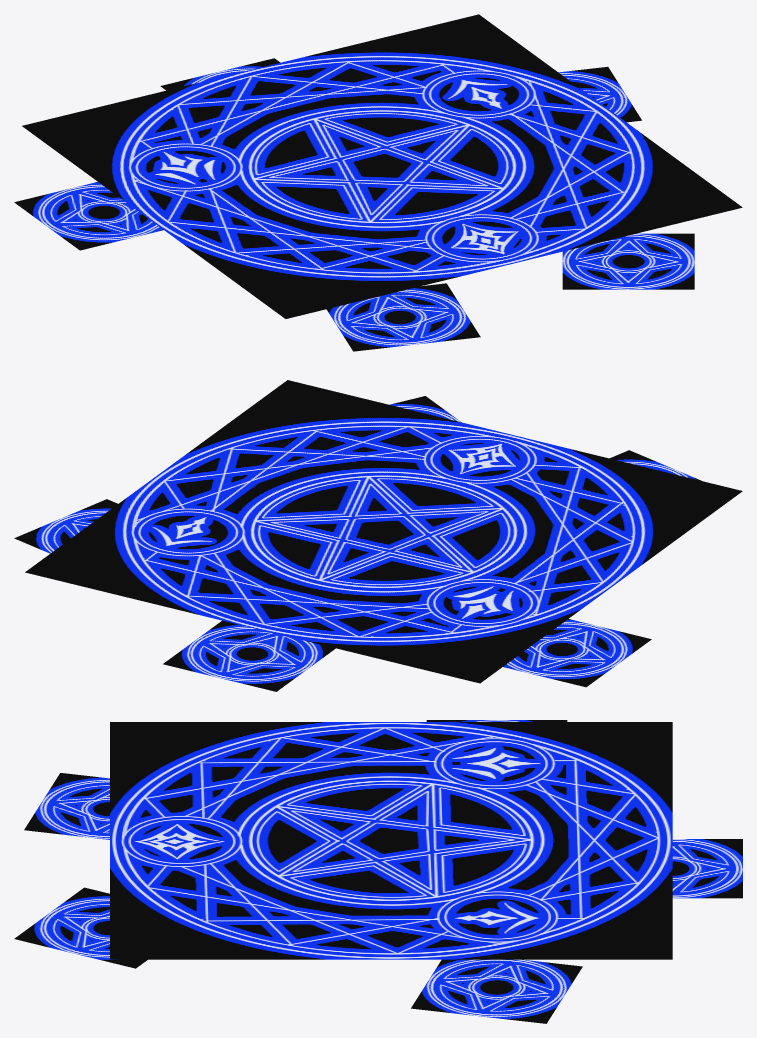
File: skybox_circle_blue.glb
The picture shows the model from 3 angles, top to bottom: view 1: azimuth 30°, elevation 25°; view 2: azimuth 150°, elevation 25°; view 3: azimuth 270°, elevation 25°; orthographic projection. The views are drawn at different scales.
Parts seen in each view (by area): view 1: bridge_dev_0.smd; view 2: bridge_dev_0.smd; view 3: bridge_dev_0.smd.
Part boxes in pixels (x1,y1,x2,y2): bridge_dev_0.smd: [14, 14, 742, 351]; bridge_dev_0.smd: [14, 380, 742, 691]; bridge_dev_0.smd: [14, 720, 742, 1023].
Bounding box in the file's own units: 6.23 × 0.2667 × 6.32.
Materials: 2 (2 with a texture image).
